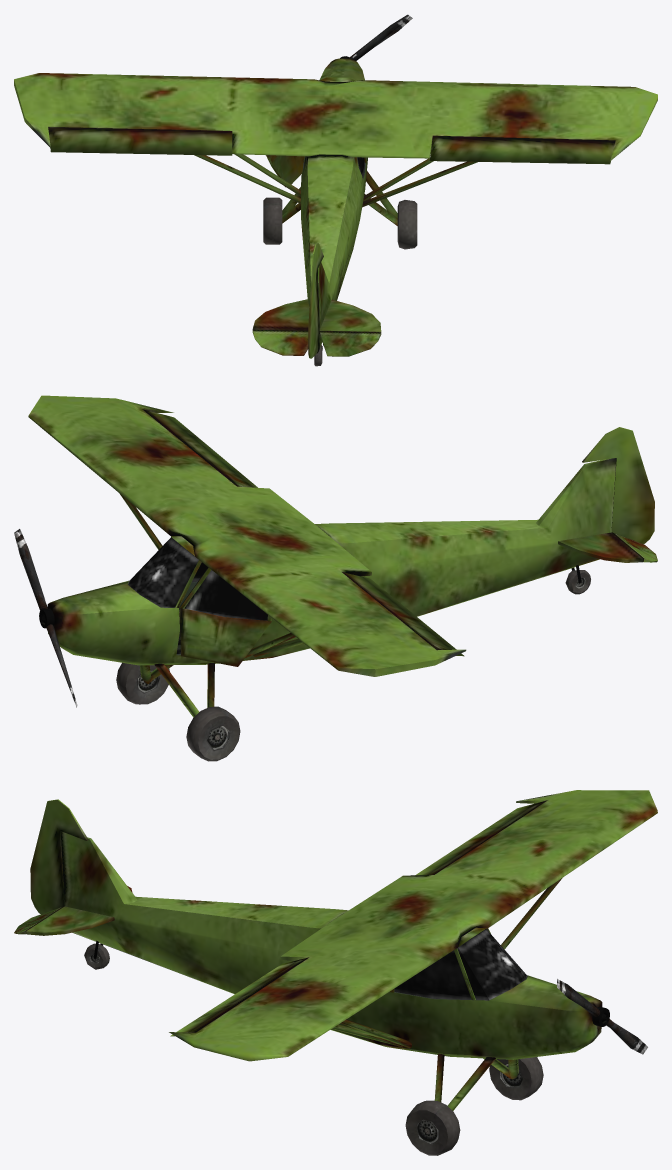
Rendered from avion_olupina.glb.
3 renders of one model, top to bottom at view 1: azimuth 30°, elevation 25°; view 2: azimuth 150°, elevation 25°; view 3: azimuth 270°, elevation 25°, orthographic. The views are drawn at different scales.
Visible parts, largest first — view 1: _AirPlane_Plane:aiStandardSurface19_0; view 2: _AirPlane_Plane:aiStandardSurface19_0; view 3: _AirPlane_Plane:aiStandardSurface19_0.
Part boxes in pixels (x1,y1,x2,y2): _AirPlane_Plane:aiStandardSurface19_0: (14,14,657,366); _AirPlane_Plane:aiStandardSurface19_0: (14,395,657,761); _AirPlane_Plane:aiStandardSurface19_0: (14,790,657,1155).
Bounding box in the file's own units: 850 × 306 × 844.
1 material, 1 textured.
